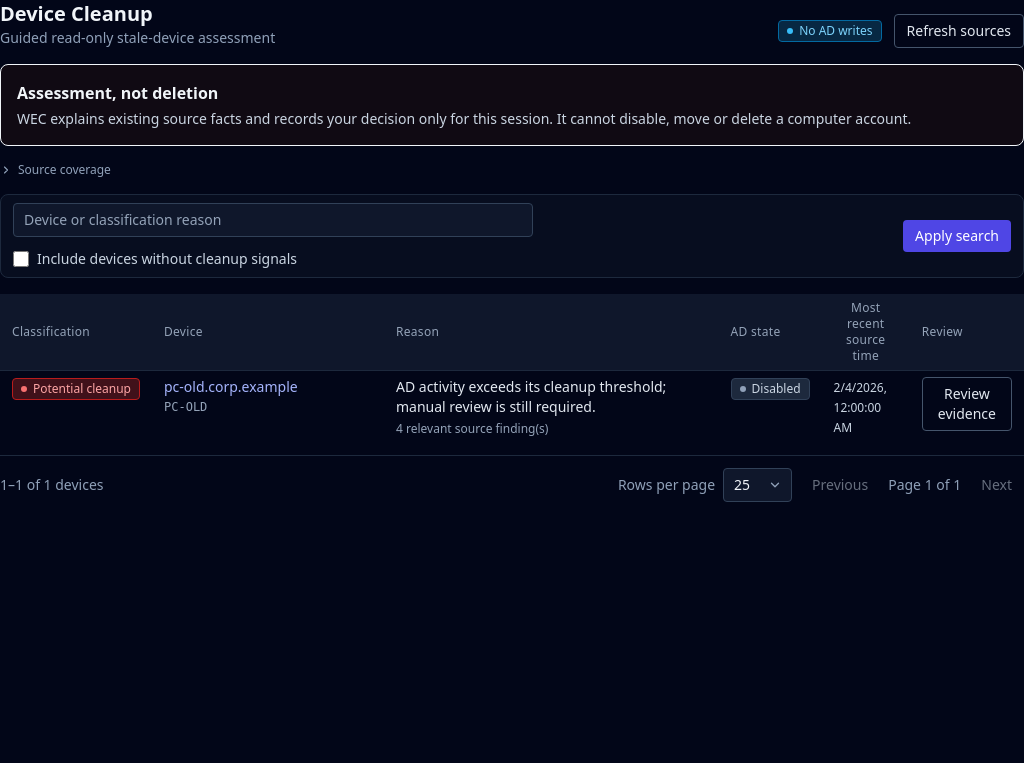
Test: DeviceCleanupPage › guides a read-only session decision and probes connectivity only on request
Expected: the heading "Device Cleanup" is shown, x1=0 y1=0 x2=153 y2=27
Expected: the heading "Assessment, not deletion" is shown, x1=17 y1=82 x2=218 y2=104
Click the button "Review evidence" at (967, 404), box x1=922 y1=377 x2=1012 y2=431
(page scrolled)
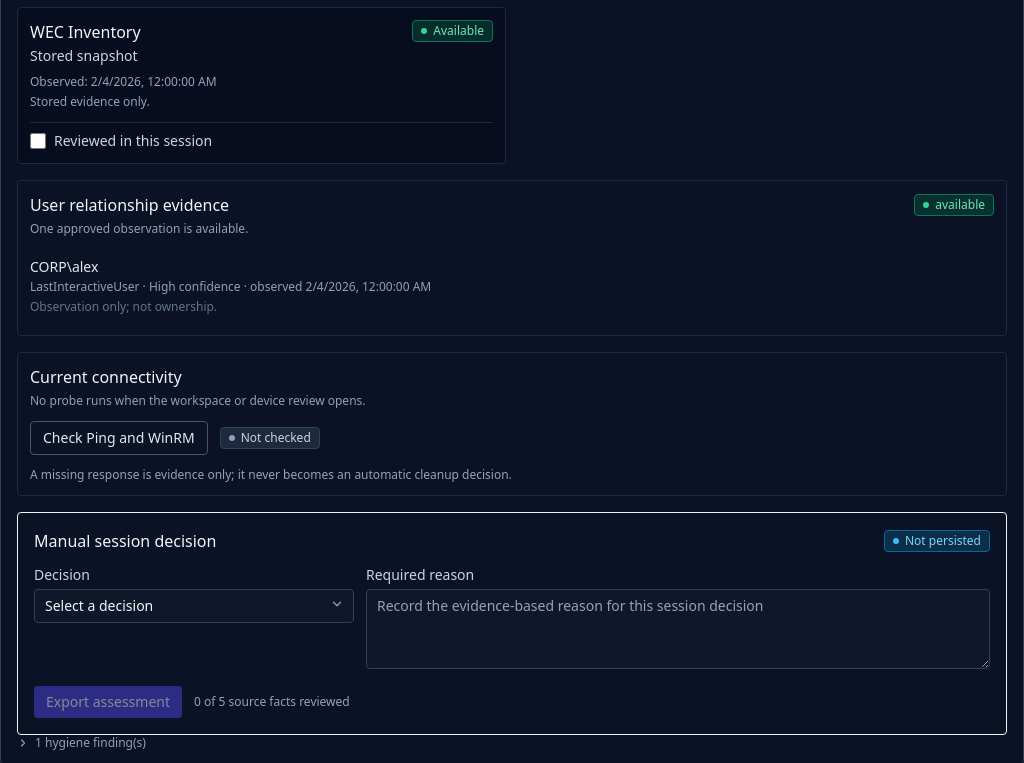
Now the text "CORP\\alex" is shown, box x1=30 y1=257 x2=98 y2=276
Now the text "Not checked" is shown, box x1=220 y1=427 x2=320 y2=449
Click the button "Check Ping and WinRM" at (119, 438), box x1=30 y1=421 x2=208 y2=455
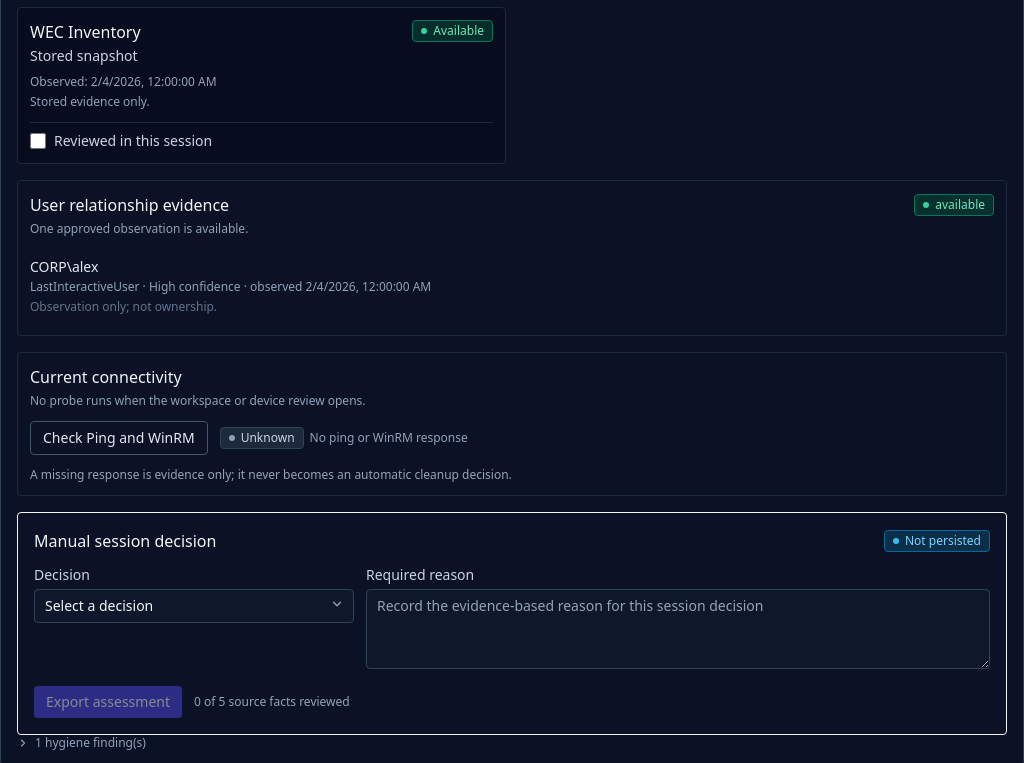
Now the button "Export assessment" is disabled, box x1=34 y1=686 x2=182 y2=718
Now the text "No ping or WinRM response" is shown, box x1=310 y1=430 x2=468 y2=446
Select "Prepare controlled cleanup" in the dropdown at (194, 606), box x1=34 y1=589 x2=354 y2=623
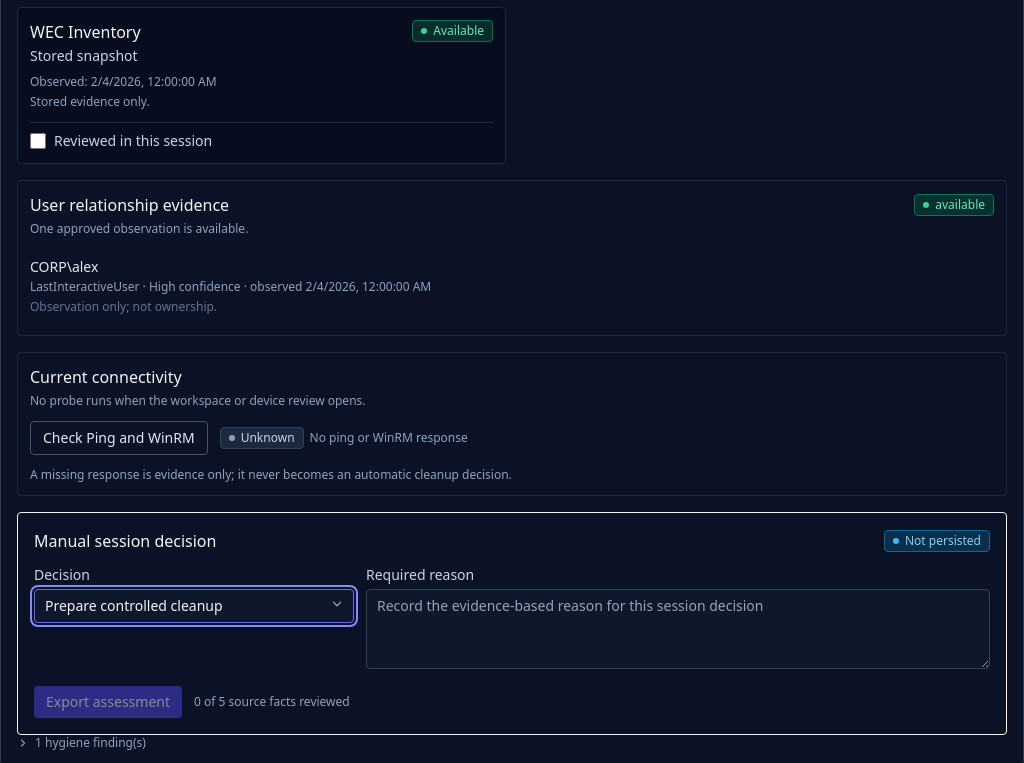
Now the button "Export assessment" is disabled, box x1=34 y1=686 x2=182 y2=718
Type "Replacement confirmed." into the text box named "Required decision reason" at (678, 629), box x1=366 y1=589 x2=990 y2=669
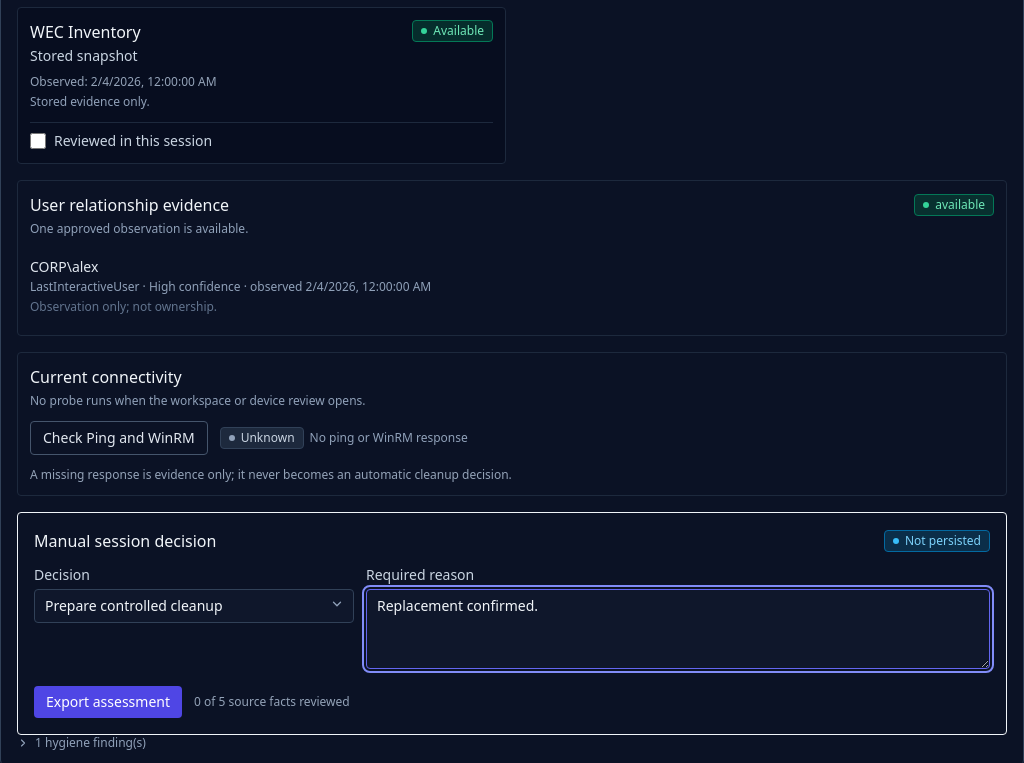
Now the button "Export assessment" is enabled
Click the button "Export assessment" at (108, 702), box x1=34 y1=686 x2=182 y2=718
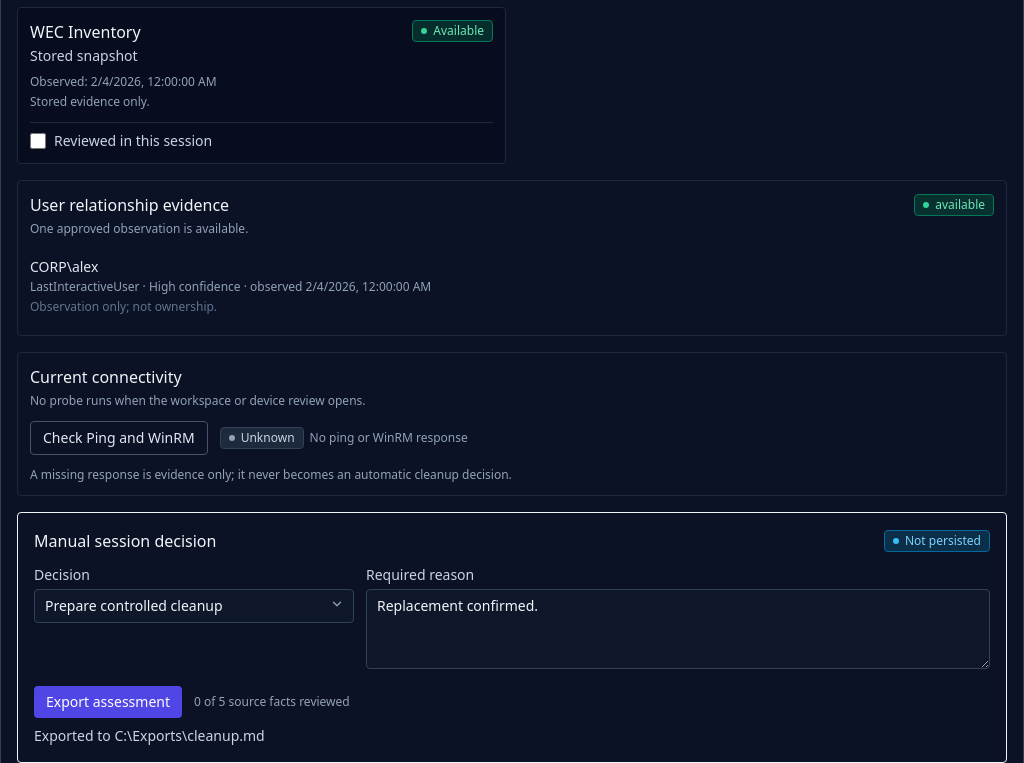
Now the text "Exported to C:\\Exports\\cleanup.md" is shown, box x1=34 y1=726 x2=265 y2=745
